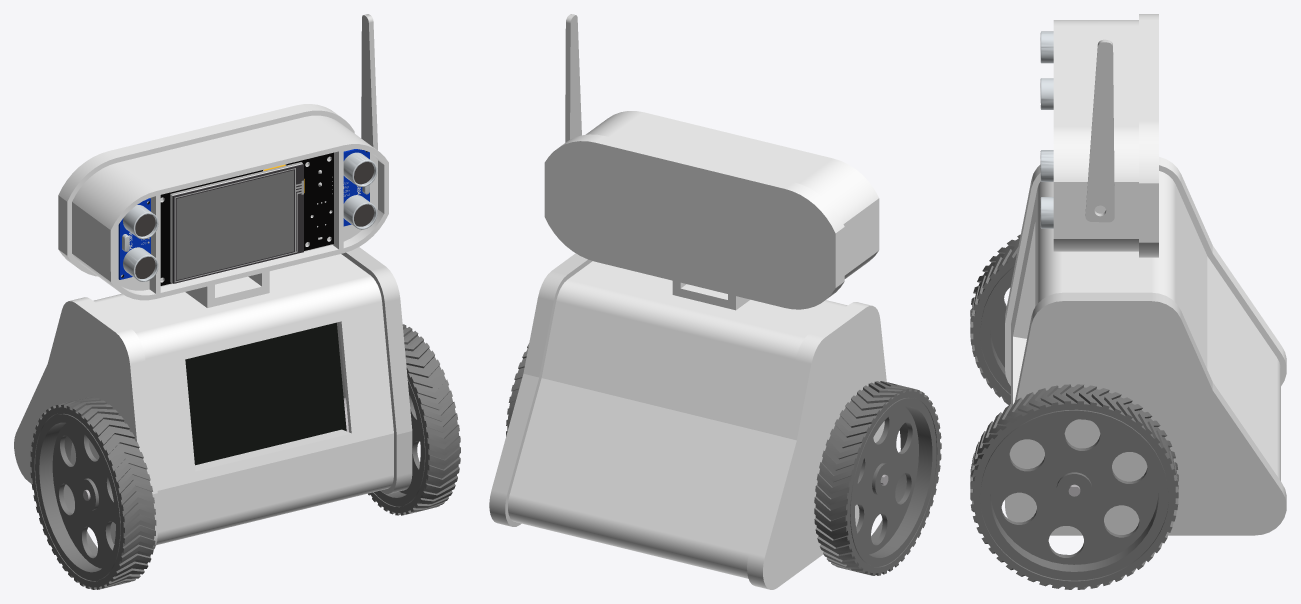
The model's file is companion_robot.glb.
The picture shows the model from 3 angles, left to right: view 1: azimuth 30°, elevation 25°; view 2: azimuth 150°, elevation 25°; view 3: azimuth 270°, elevation 25°; orthographic projection. The views are drawn at different scales.
Visible parts, largest first — view 1: Greartisan DC 12V 30RPM High Torque Electric Micro Speed Red; view 2: Greartisan DC 12V 30RPM High Torque Electric Micro Speed Red; view 3: Greartisan DC 12V 30RPM High Torque Electric Micro Speed Red.
Boxes of the visible parts, x1,y1,x2,y2 form: Greartisan DC 12V 30RPM High Torque Electric Micro Speed Red: (14, 14, 460, 589); Greartisan DC 12V 30RPM High Torque Electric Micro Speed Red: (489, 14, 941, 589); Greartisan DC 12V 30RPM High Torque Electric Micro Speed Red: (970, 14, 1286, 589).
Size of the model in its own units: 0.215 by 0.2956 by 0.1594.
1 material, 1 textured.
